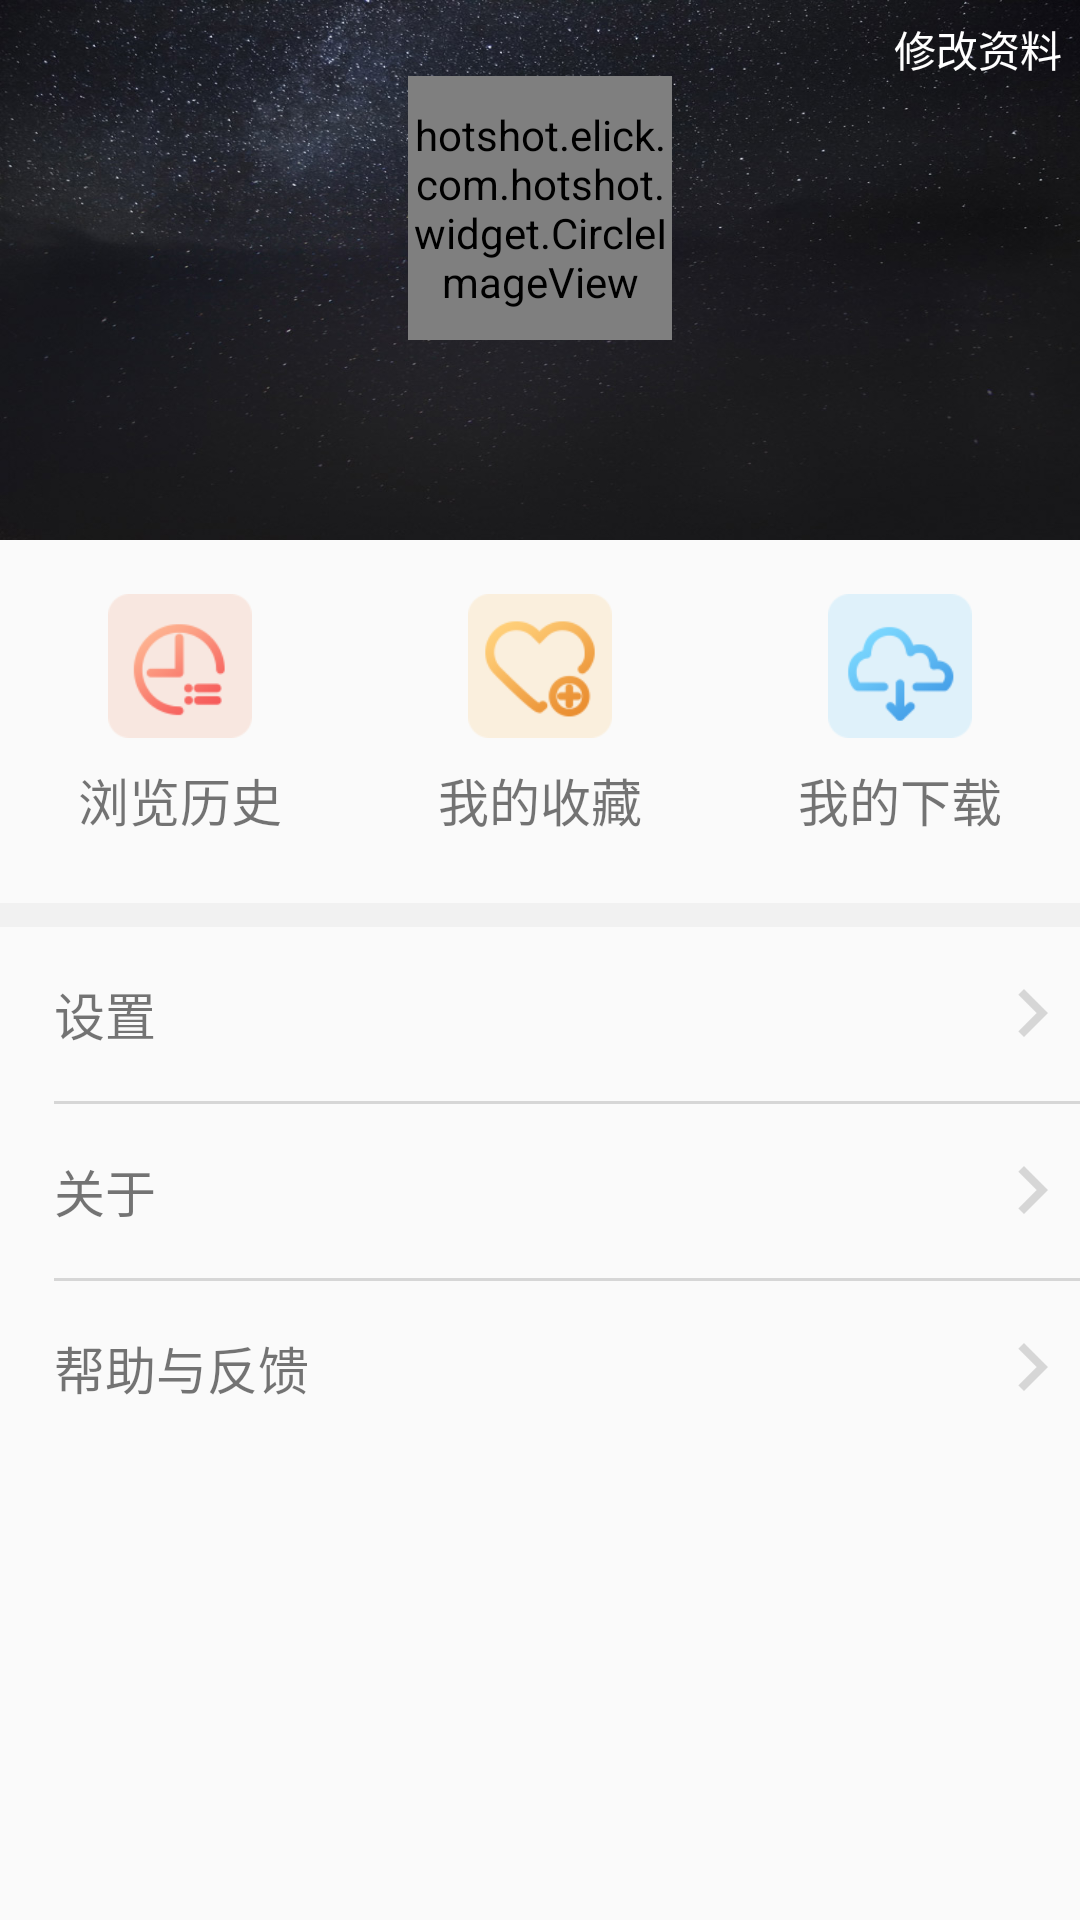

Where to tap for icons on this 1080*1920 app screen, as point (x, y):
arrow right: point (1033, 1013), point (1033, 1190), point (1033, 1367)
